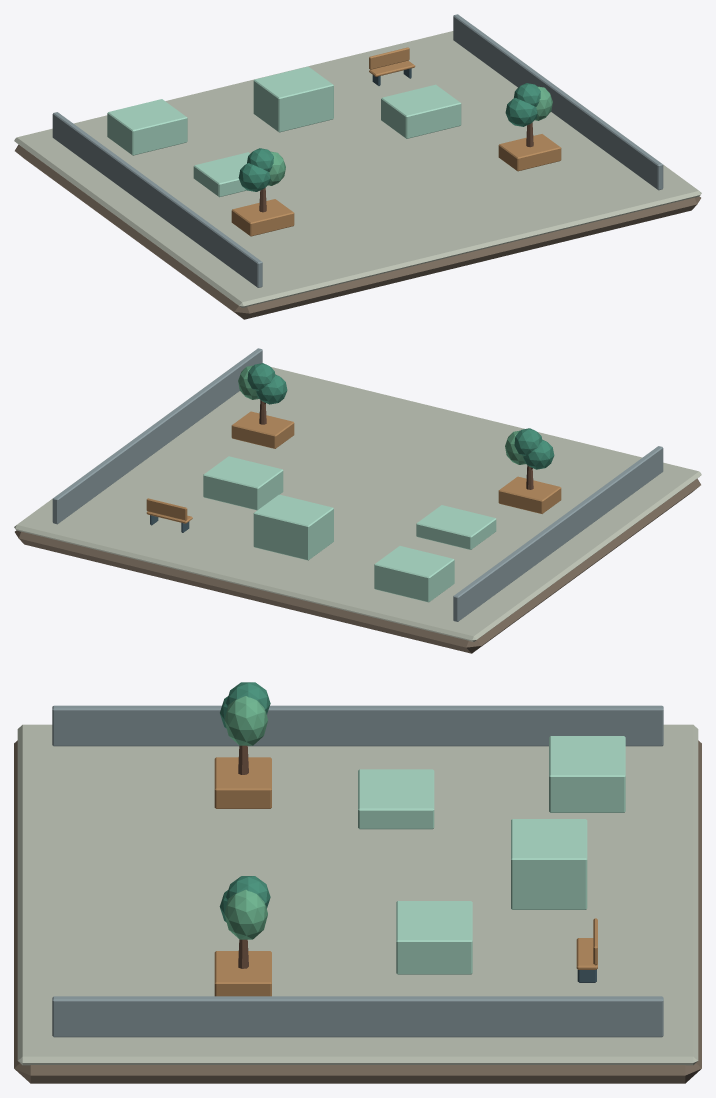
The model's file is world-rooftop.glb.
3 views of the same model, one above another, from view 1: azimuth 30°, elevation 25°; view 2: azimuth 150°, elevation 25°; view 3: azimuth 270°, elevation 25° (orthographic). The views are drawn at different scales.
Parts seen in each view (by area): view 1: terrain-top, terrain-stratum, parapet, parapet.001, parkour-platform.002, parkour-platform.003, parkour-platform.001, planter, planter.001, parkour-platform, canopy.006, canopy.003 (+1 smaller); view 2: terrain-top, terrain-stratum, parapet, parapet.001, parkour-platform.002, parkour-platform.003, parkour-platform.001, parkour-platform, planter.001, planter, canopy.003, canopy.006 (+3 smaller); view 3: terrain-top, parapet.001, parapet, terrain-stratum, parkour-platform.002, parkour-platform.003, parkour-platform.001, parkour-platform, planter, planter.001, canopy.007, canopy.004 (+2 smaller).
Boxes of the visible parts, x1,y1,x2,y2 form: terrain-top: (14,31,701,307); terrain-stratum: (15,144,700,319); parapet: (52,112,262,287); parapet.001: (453,14,663,190); parkour-platform.002: (253,66,333,132); parkour-platform.003: (107,99,187,155); parkour-platform.001: (381,84,461,138); planter: (231,199,294,236); planter.001: (498,134,561,171); parkour-platform: (193,152,250,197); canopy.006: (505,98,537,126); canopy.003: (238,163,270,191); terrain-top: (14,367,701,641); terrain-stratum: (15,478,700,653); parapet: (453,446,663,621); parapet.001: (52,348,262,524); parkour-platform.002: (253,494,333,560); parkour-platform.003: (374,546,454,602); parkour-platform.001: (203,456,283,510); parkour-platform: (416,505,496,549); planter.001: (231,411,294,448); planter: (498,476,561,513); canopy.003: (523,439,554,469); canopy.006: (256,374,287,404); terrain-top: (17,724,698,1065); parapet.001: (52,996,663,1037); parapet: (52,705,663,746); terrain-stratum: (14,740,701,1083); parkour-platform.002: (511,819,587,909); parkour-platform.003: (549,736,625,812); parkour-platform.001: (396,901,472,974); parkour-platform: (358,769,434,829); planter: (214,757,271,808); planter.001: (214,951,271,996); canopy.007: (224,889,267,939); canopy.004: (224,696,267,745).
Bounding box in the file's own units: 21 × 4.08 × 18.
